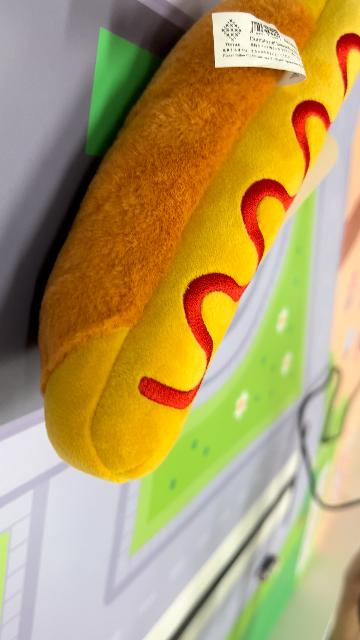hotdog: (37, 2, 359, 486)
